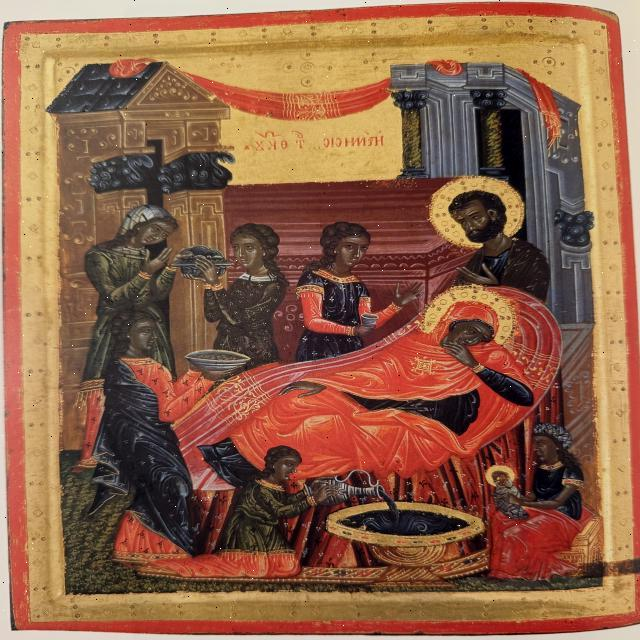aura: (426, 174, 529, 252), (420, 284, 516, 346), (483, 463, 517, 487)
basin: (319, 499, 509, 591)
saint: (160, 288, 562, 490), (424, 169, 569, 288)
